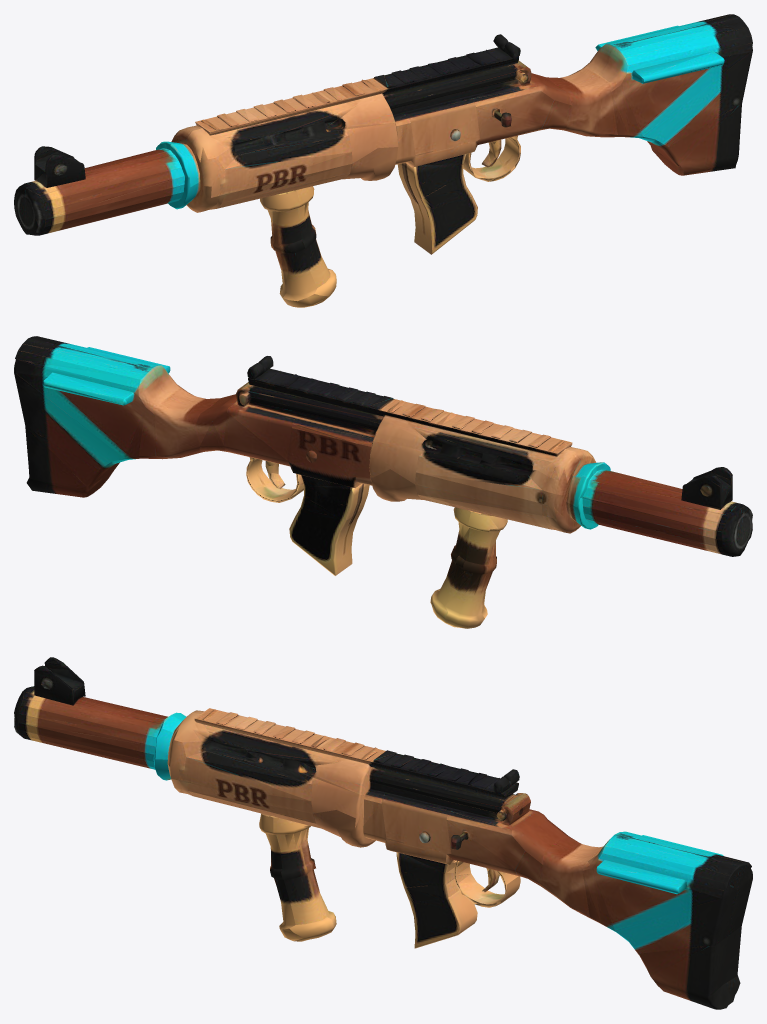
Rendered from driftwood-scattergun.glb.
3 views of the same model, one above another, from view 1: azimuth 30°, elevation 25°; view 2: azimuth 150°, elevation 25°; view 3: azimuth 330°, elevation 25° (orthographic).
Bounding box in the file's own units: 1 × 0.2871 × 0.126.
Materials: 1 (1 with a texture image).
